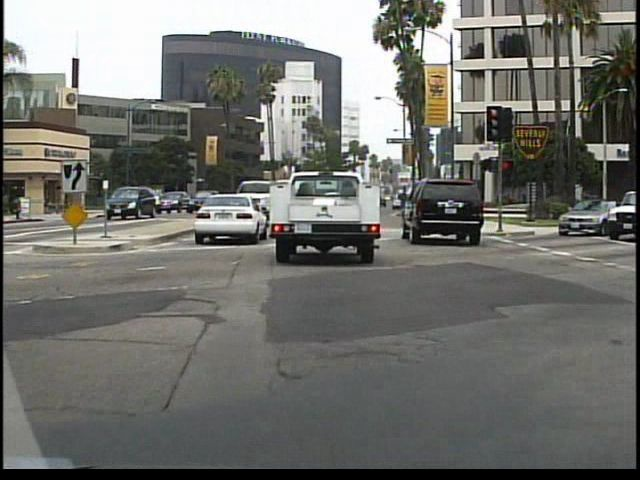person: (102, 188, 121, 222)
